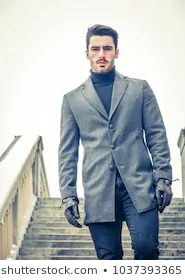F_M_suit jacket: (56, 71, 176, 225)
